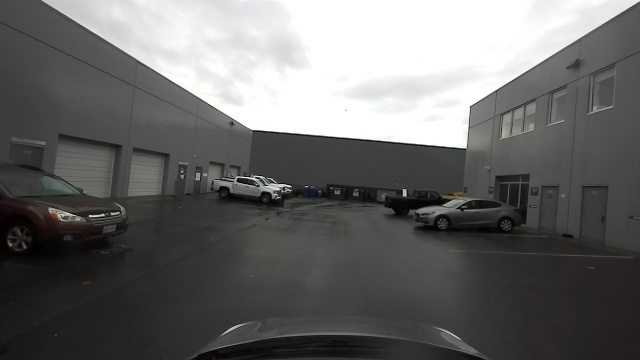car: (412, 198, 522, 232), (212, 174, 284, 206), (385, 188, 421, 217)
